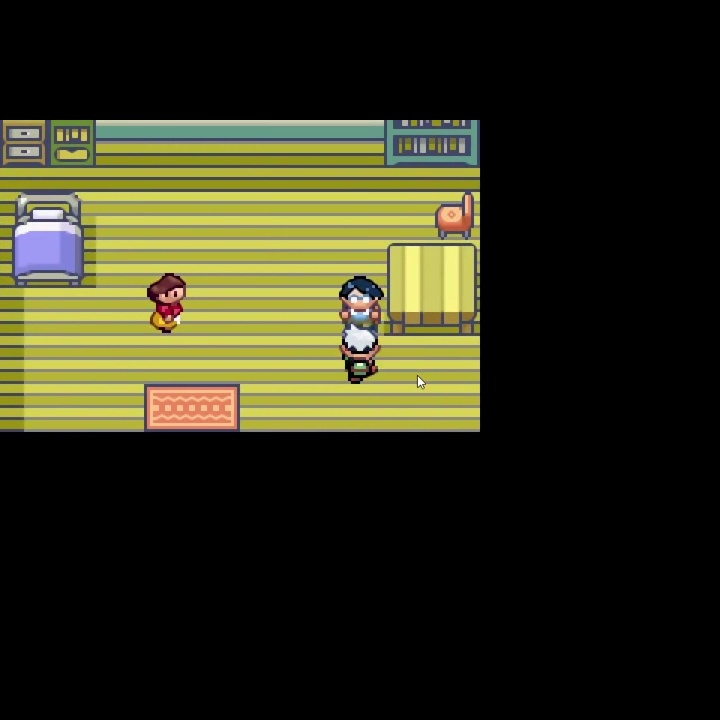exit: (141, 381, 243, 495)
npc: (144, 271, 189, 336), (338, 325, 384, 386), (337, 273, 385, 327)
